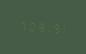nine: (34, 19, 41, 33), (50, 20, 57, 34)
one: (42, 19, 49, 34), (58, 21, 65, 35)
seven: (17, 18, 24, 32)
zero: (25, 18, 32, 33)
